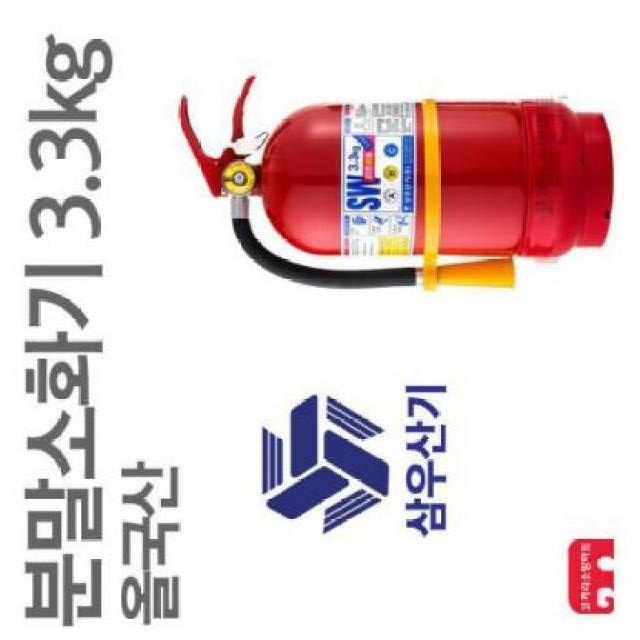fire extinguisher: (176, 75, 615, 289)
